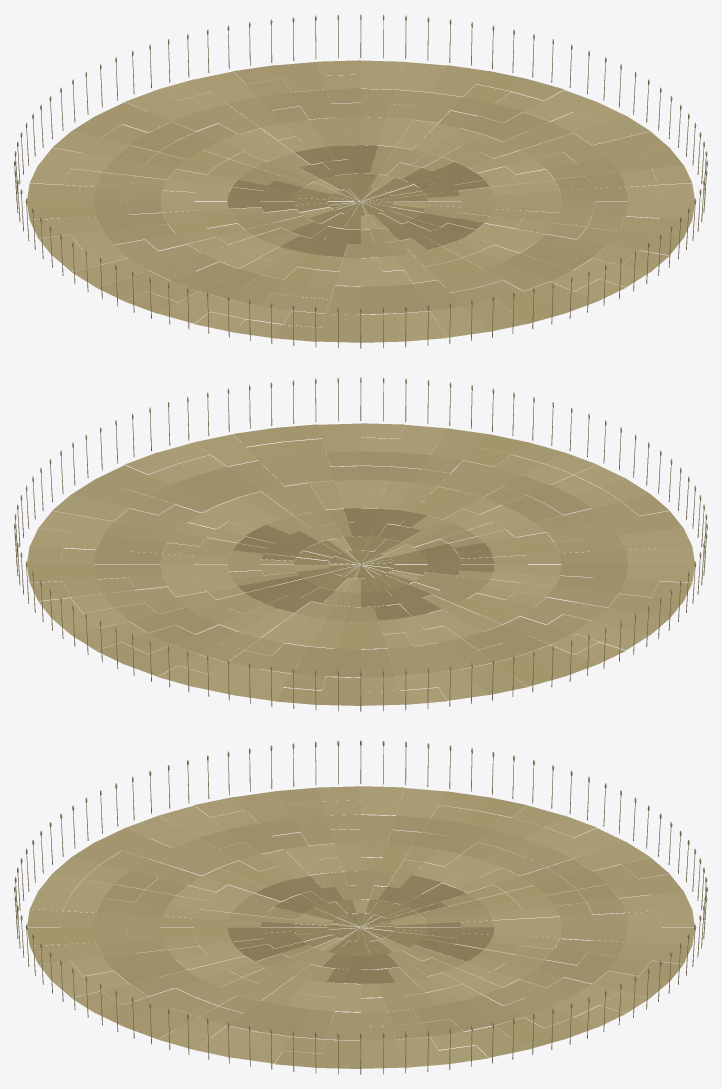
File: crop_circle_a.glb
3 views of the same model, one above another, from view 1: azimuth 30°, elevation 25°; view 2: azimuth 150°, elevation 25°; view 3: azimuth 270°, elevation 25° (orthographic).
Visible parts, largest first — view 1: body; view 2: body; view 3: body.
Part boxes in pixels (x1,y1,x2,y2): body: (14, 14, 707, 348); body: (14, 377, 707, 711); body: (14, 740, 707, 1074).
Size of the model in its own units: 14.54 by 0.9907 by 14.54.
